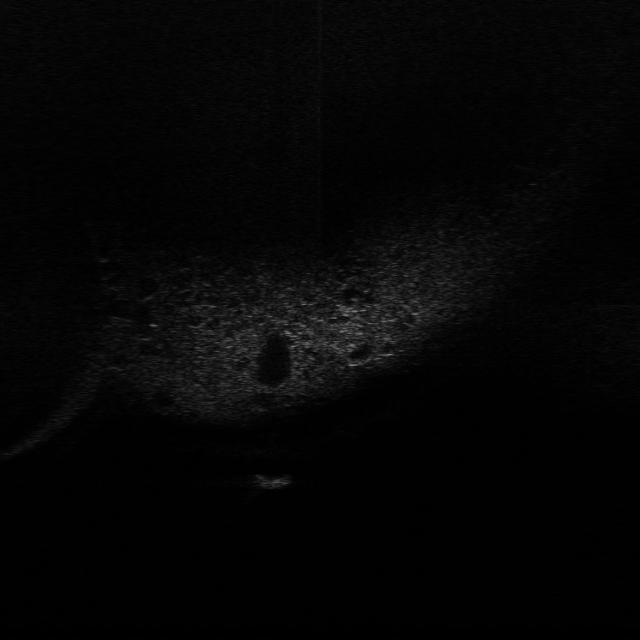cube: (246, 470, 296, 492)
